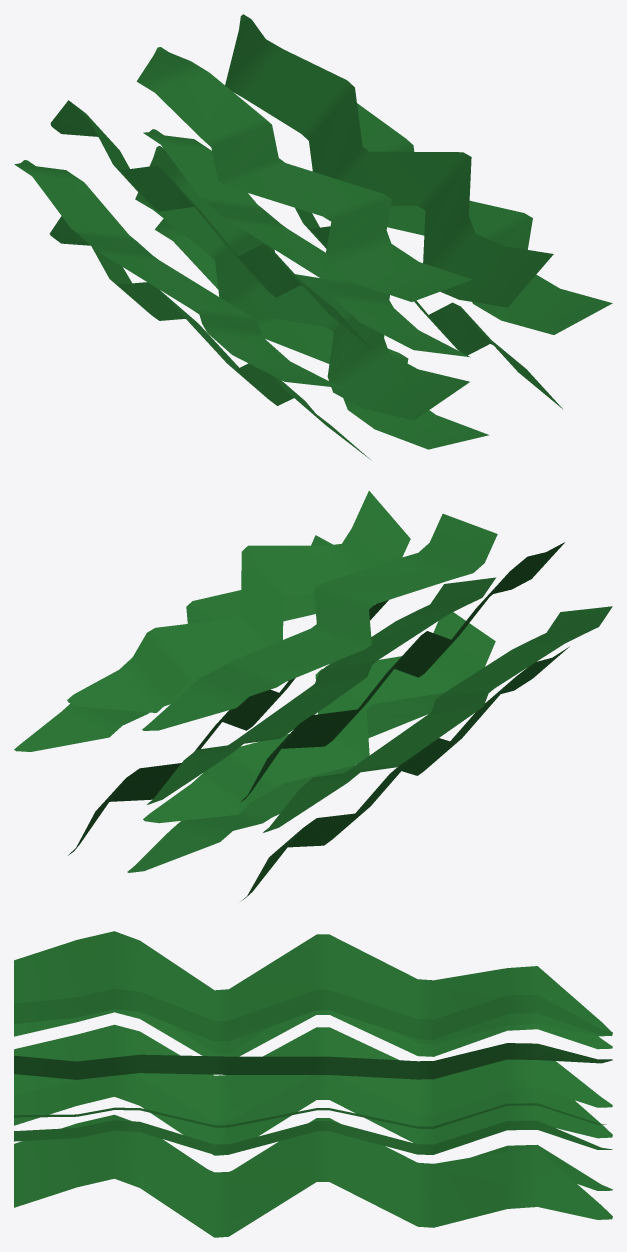
The model's file is Seaweed.fbx.
3 renders of one model, top to bottom at view 1: azimuth 30°, elevation 25°; view 2: azimuth 150°, elevation 25°; view 3: azimuth 270°, elevation 25°, orthographic. The views are drawn at different scales.
Parts seen in each view (by area): view 1: Seaweed; view 2: Seaweed; view 3: Seaweed.
Part boxes in pixels (bbox=[...]): Seaweed: bbox=[14, 14, 612, 460]; Seaweed: bbox=[14, 491, 612, 900]; Seaweed: bbox=[14, 931, 612, 1237].
Bounding box in the file's own units: 158 × 84.48 × 232.
